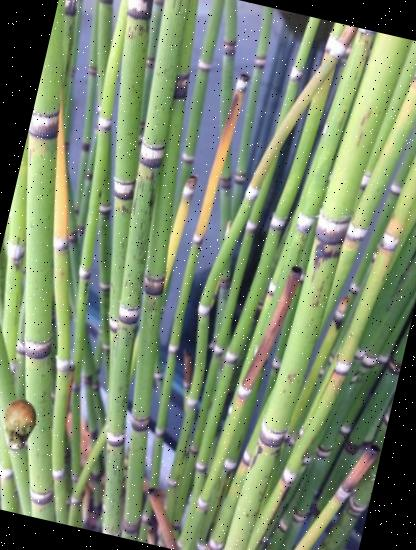Cactus: (0, 393, 47, 454)
